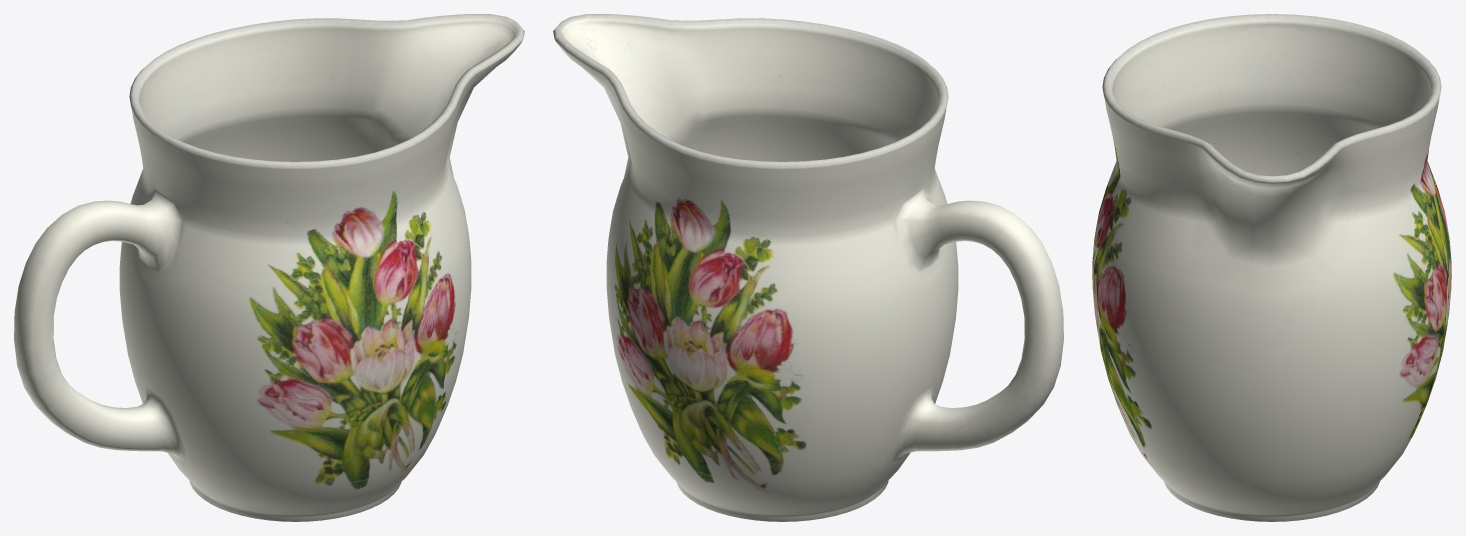
The model's file is jug_01.glb.
3 views of the same model, side by side, from view 1: azimuth 30°, elevation 25°; view 2: azimuth 150°, elevation 25°; view 3: azimuth 270°, elevation 25° (orthographic). The views are drawn at different scales.
Visible parts, largest first — view 1: jug_01; view 2: jug_01; view 3: jug_01.
Part boxes in pixels (box(x1,y1,x2,y2)): jug_01: box(14, 14, 524, 521); jug_01: box(553, 14, 1063, 521); jug_01: box(1092, 14, 1451, 521).
Size of the model in its own units: 0.2753 by 0.2113 by 0.1675.
1 material, 1 textured.
